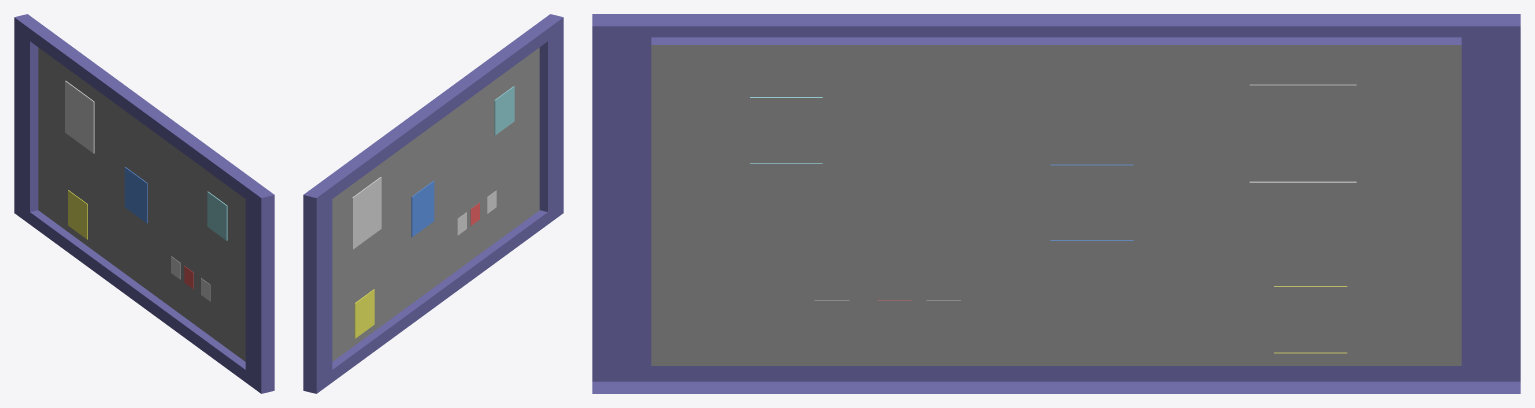
File: Information stand.fbx
3 views of the same model, side by side, from view 1: azimuth 30°, elevation 25°; view 2: azimuth 150°, elevation 25°; view 3: azimuth 270°, elevation 25° (orthographic). The views are drawn at different scales.
Visible parts, largest first — view 1: Information stand; view 2: Information stand; view 3: Information stand.
Boxes of the visible parts, x1,y1,x2,y2 form: Information stand: [14, 14, 274, 393]; Information stand: [303, 14, 563, 393]; Information stand: [592, 14, 1520, 393].
Size of the model in its own units: 7.1 by 99.57 by 228.
